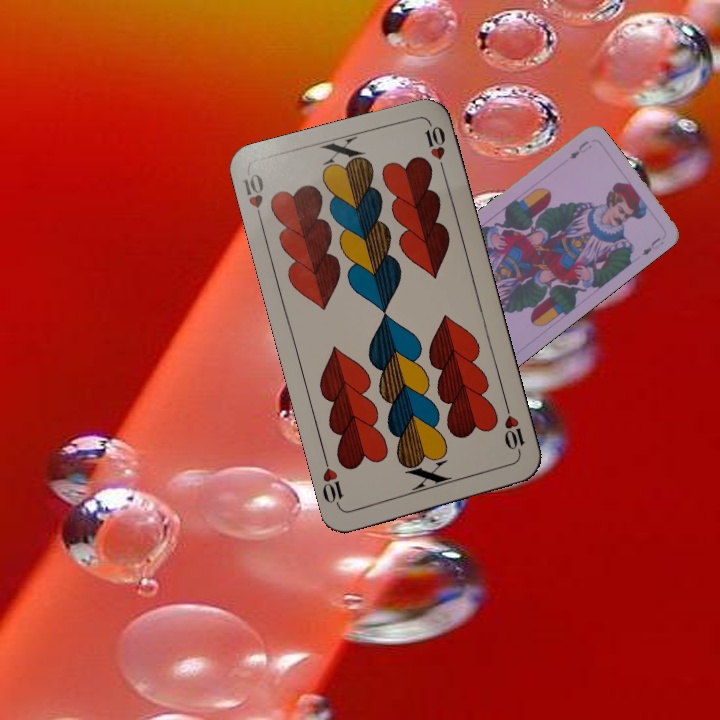EU: (566, 137, 594, 162)
H10: (239, 169, 267, 228), (500, 401, 527, 459)
